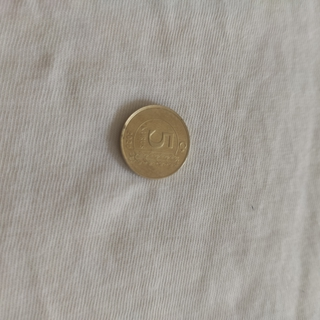5KURUS: (117, 102, 191, 180)
